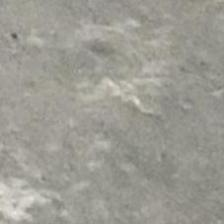Non_Crack: (63, 9, 224, 217)
